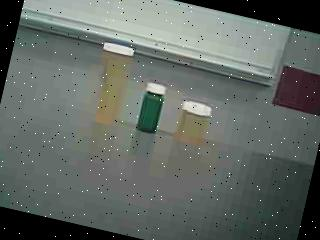Bottle A: (77, 32, 146, 133)
Bottle B: (169, 92, 218, 152)
Bottle C: (132, 78, 172, 138)
